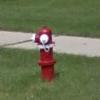Hydrant: (29, 19, 63, 84)
